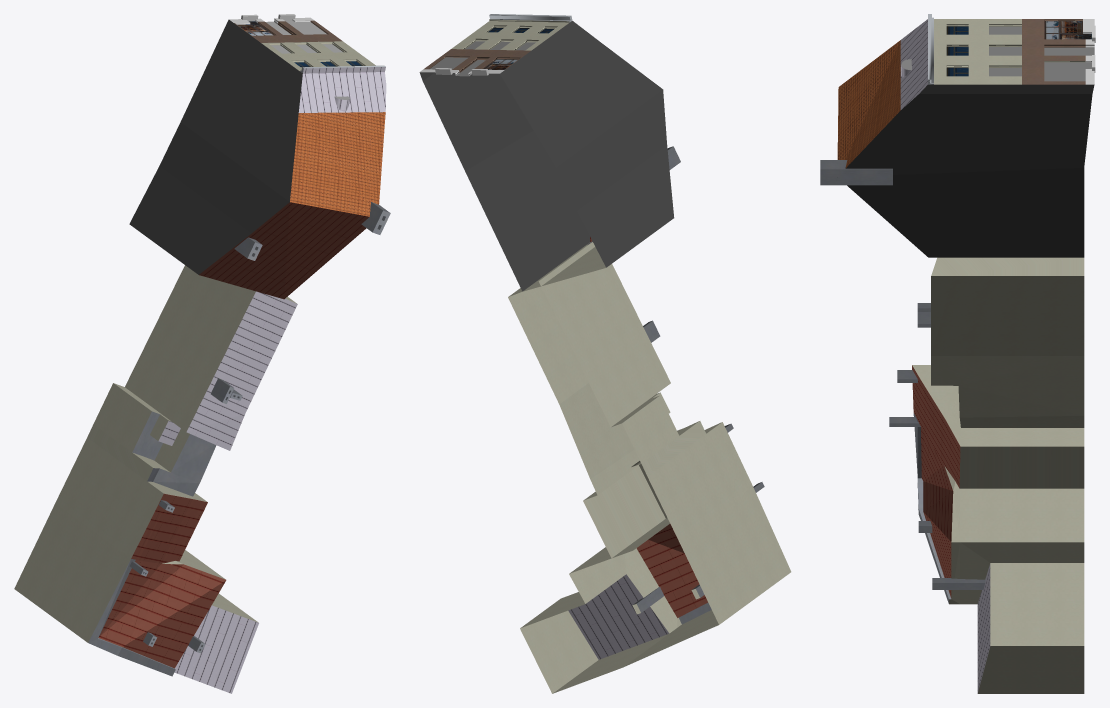
The model's file is Viru_20.obj.
3 views of the same model, side by side, from view 1: azimuth 30°, elevation 25°; view 2: azimuth 150°, elevation 25°; view 3: azimuth 270°, elevation 25° (orthographic). The views are drawn at different scales.
Parts seen in each view (by area): view 1: Viru_20; view 2: Viru_20; view 3: Viru_20.
Part boxes in pixels (<box>): Viru_20: <box>14,14,390,693</box>; Viru_20: <box>419,14,791,693</box>; Viru_20: <box>820,14,1095,693</box>.
Bounding box in the file's own units: 28.92 × 57.51 × 20.28.
